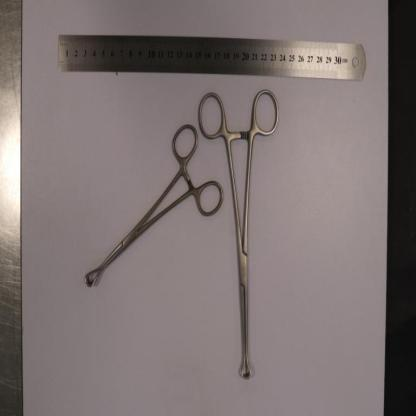8 Babcock Tissue Forceps: (197, 89, 280, 378)
Babcock Tissue Forceps: (86, 126, 223, 287)
